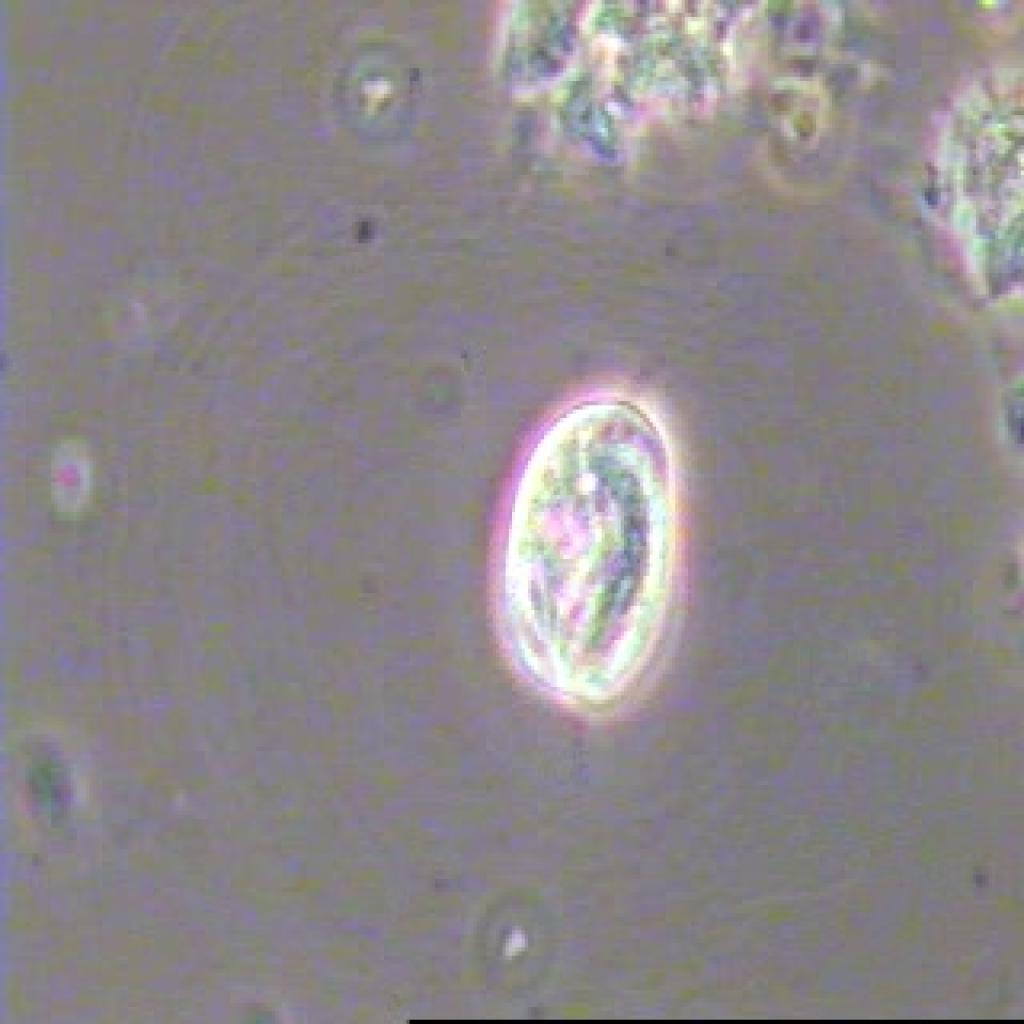Aspidisca: (477, 361, 710, 740)
